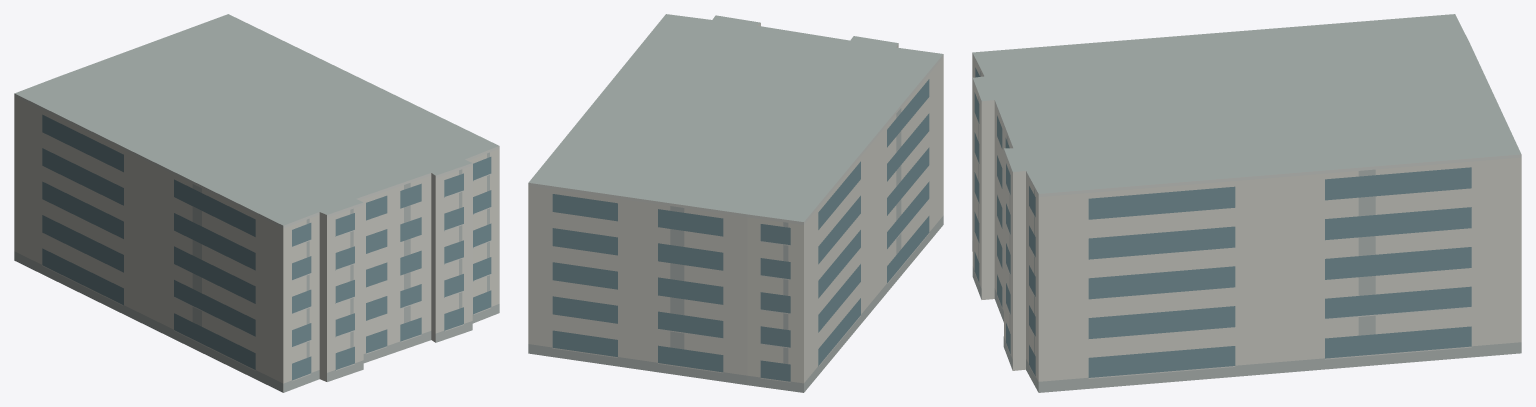
The model's file is survey-upis-32902901.glb.
The picture shows the model from 3 angles, left to right: view 1: azimuth 30°, elevation 25°; view 2: azimuth 150°, elevation 25°; view 3: azimuth 270°, elevation 25°; orthographic projection. The views are drawn at different scales.
Parts seen in each view (by area): view 1: survey-upis-32902901.tmp; view 2: survey-upis-32902901.tmp; view 3: survey-upis-32902901.tmp.
Boxes of the visible parts, x1,y1,x2,y2 form: survey-upis-32902901.tmp: (14, 14, 499, 392); survey-upis-32902901.tmp: (528, 14, 943, 392); survey-upis-32902901.tmp: (972, 14, 1521, 392).
Size of the model in its own units: 29.61 by 15.25 by 38.17.
